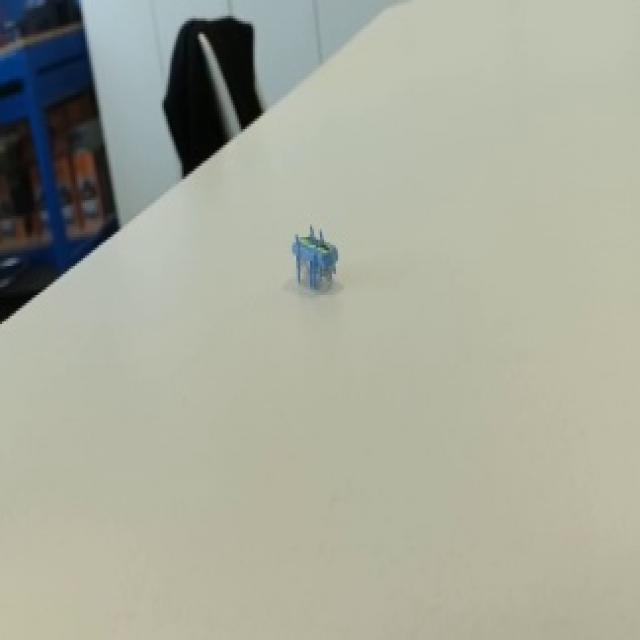3_NanoBug_Celeste: (272, 215, 350, 312)
